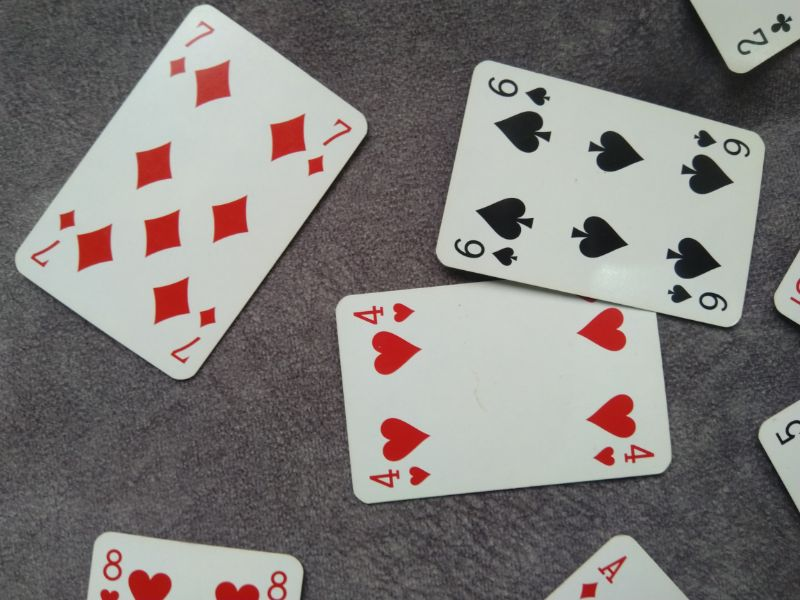2c: (730, 9, 796, 60)
4h: (592, 439, 662, 469), (368, 463, 435, 492), (352, 300, 418, 327)
6s: (452, 233, 523, 269), (486, 73, 552, 108), (667, 281, 732, 316), (689, 128, 752, 159)
7d: (305, 113, 357, 177), (167, 304, 220, 366), (28, 208, 79, 268), (167, 18, 217, 79)
Ad: (578, 551, 628, 600)
